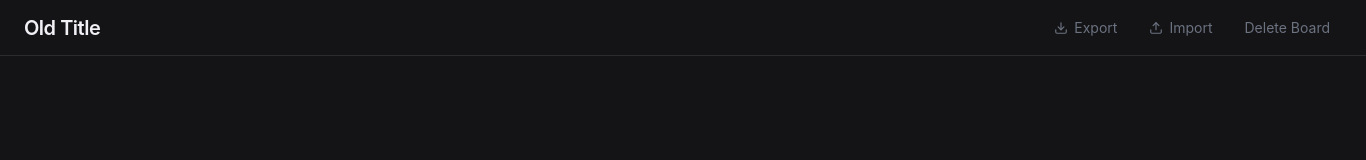
Header › saves edited title on blur
The width and height of the screenshot is (1366, 160).
Click the button "Old Title": (62, 28) [24,14,100,42]
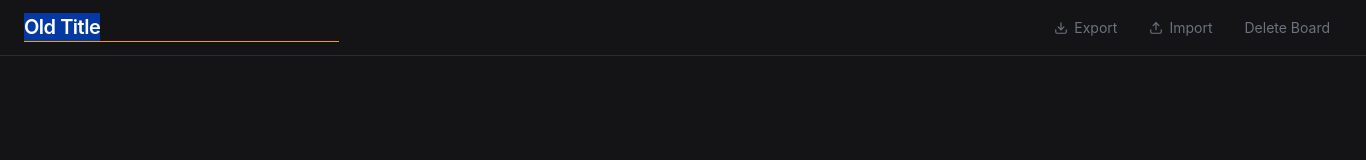
Replace the text in the field with "New Title": (182, 28) [24,13,339,42]
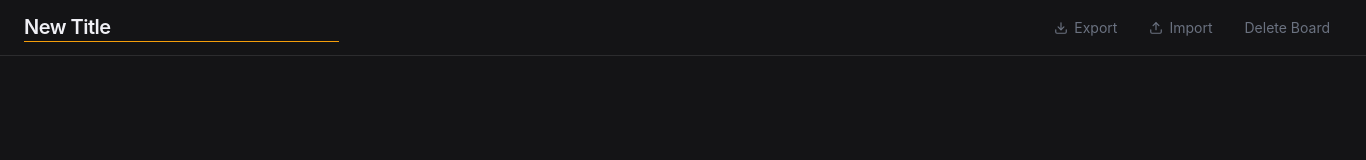
Press Tab
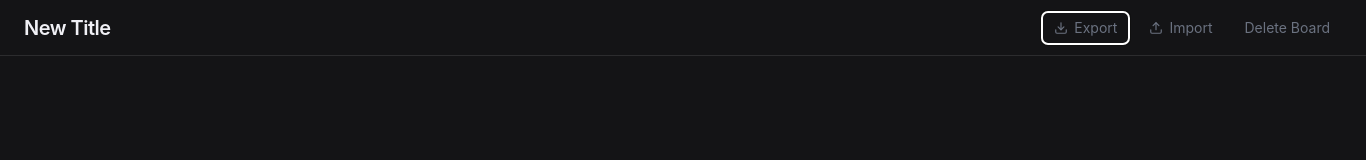
Result: the button "New Title" is shown at [24,14,111,42]
